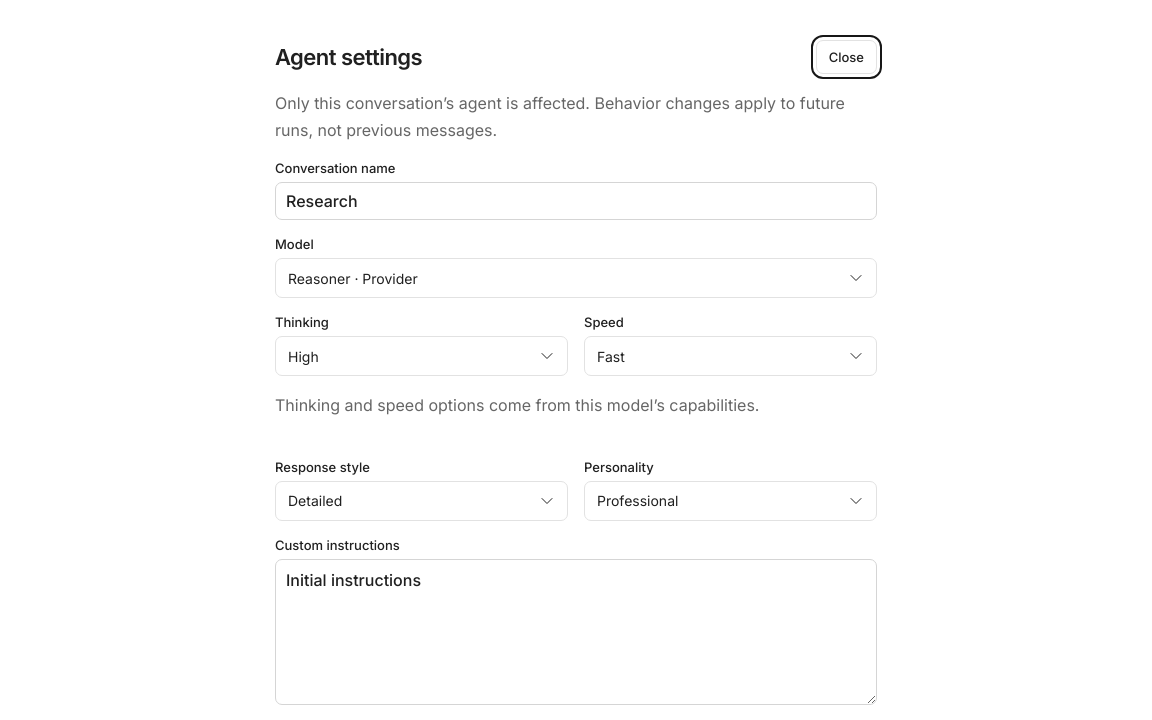
Test: disables a clean Save without disabling controls, and recognizes reverted behavior and names
Expected: the text box labelled "Custom instructions" is enabled, [275,559,877,705]
Expected: the text box labelled "Custom instructions" holds "Initial instructions", [275,559,877,705]
Click the dropdown named "Personality".
click(638, 501)  # box [584,481,877,521]
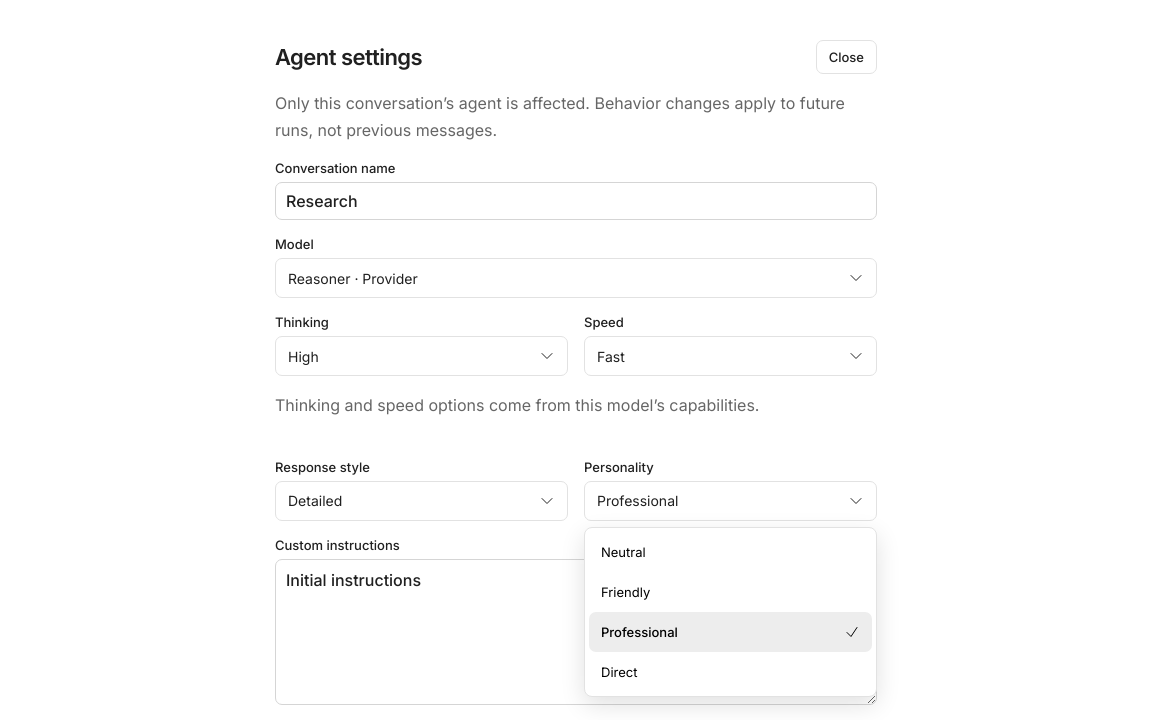
Click the option "Direct".
click(619, 672)  # box [589,652,872,692]
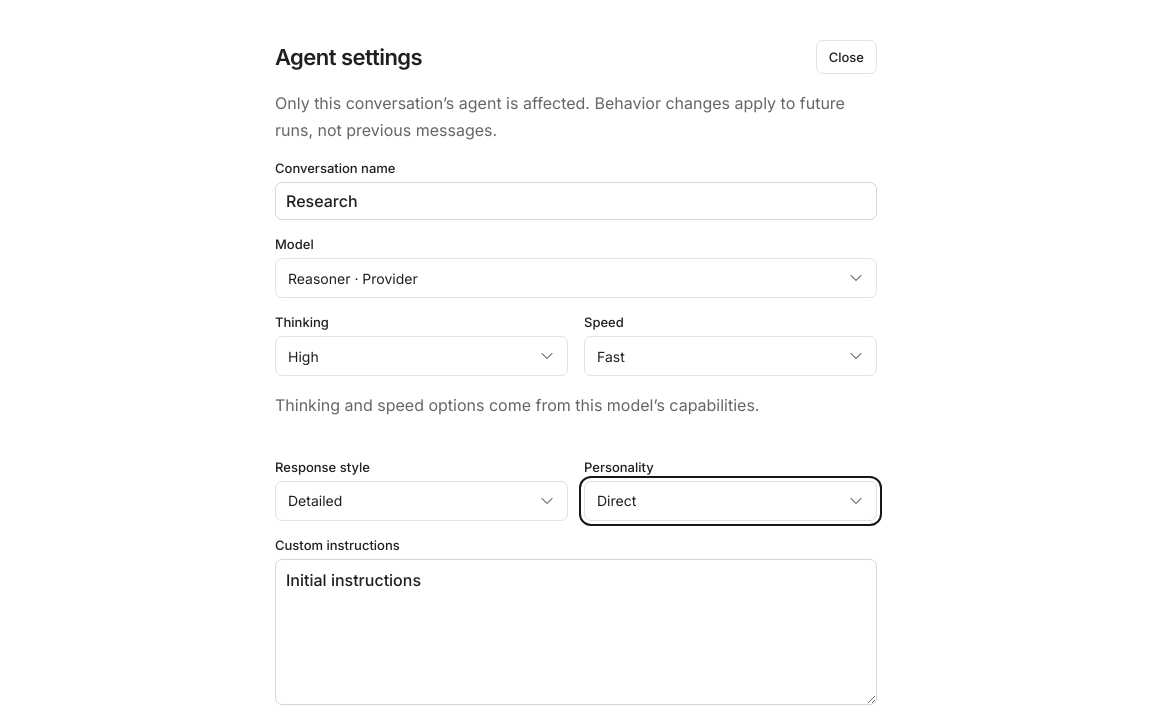
Click the dropdown named "Personality".
click(617, 501)  # box [584,481,877,521]
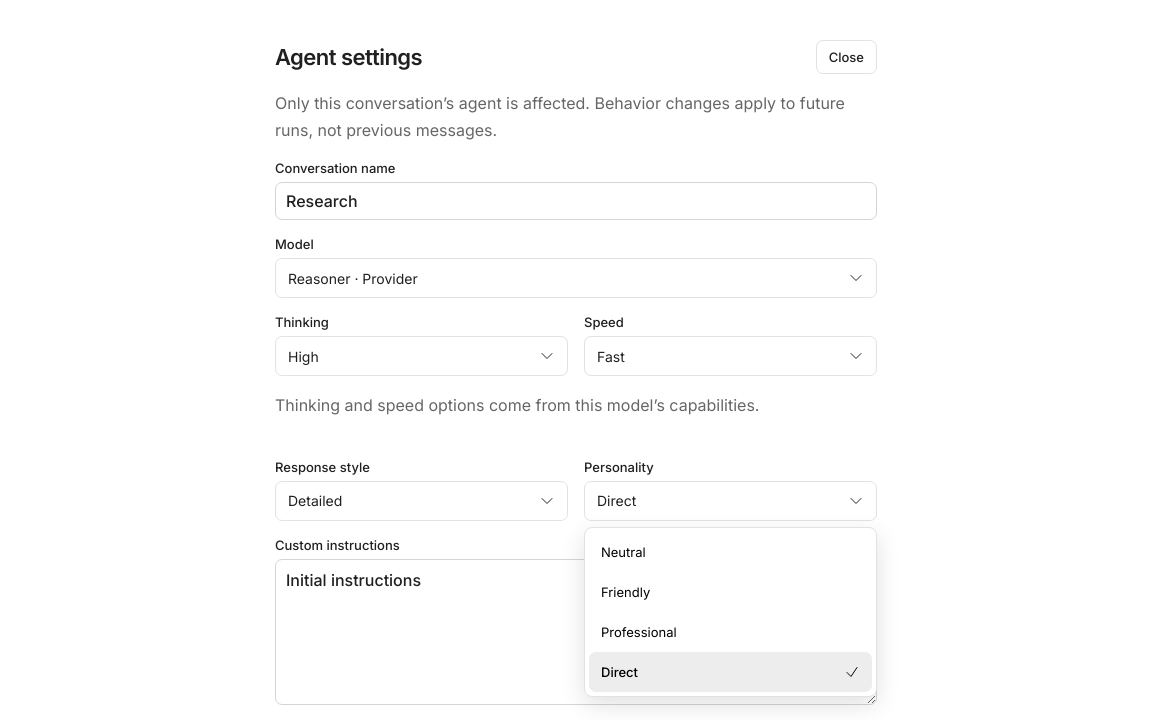
Click the option "Professional".
click(639, 632)  # box [589,612,872,652]
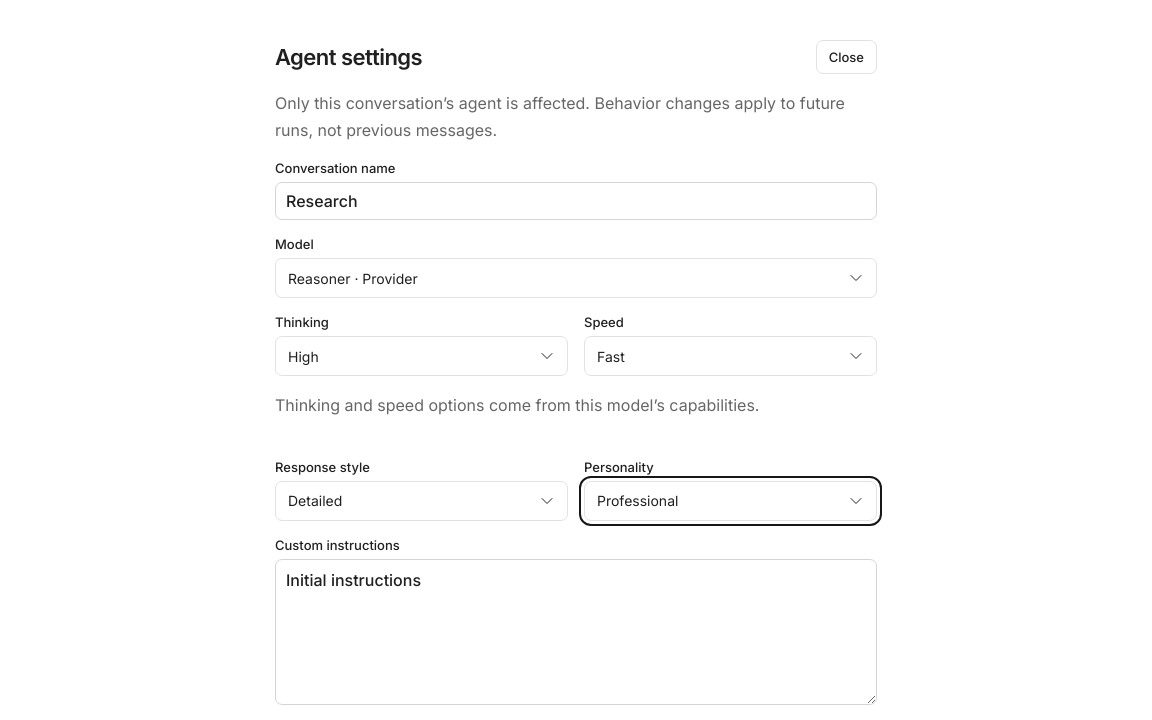
Replace the text in the field labelled "Conversation name" with "Changed" at (576, 201), box [275,182,877,220]
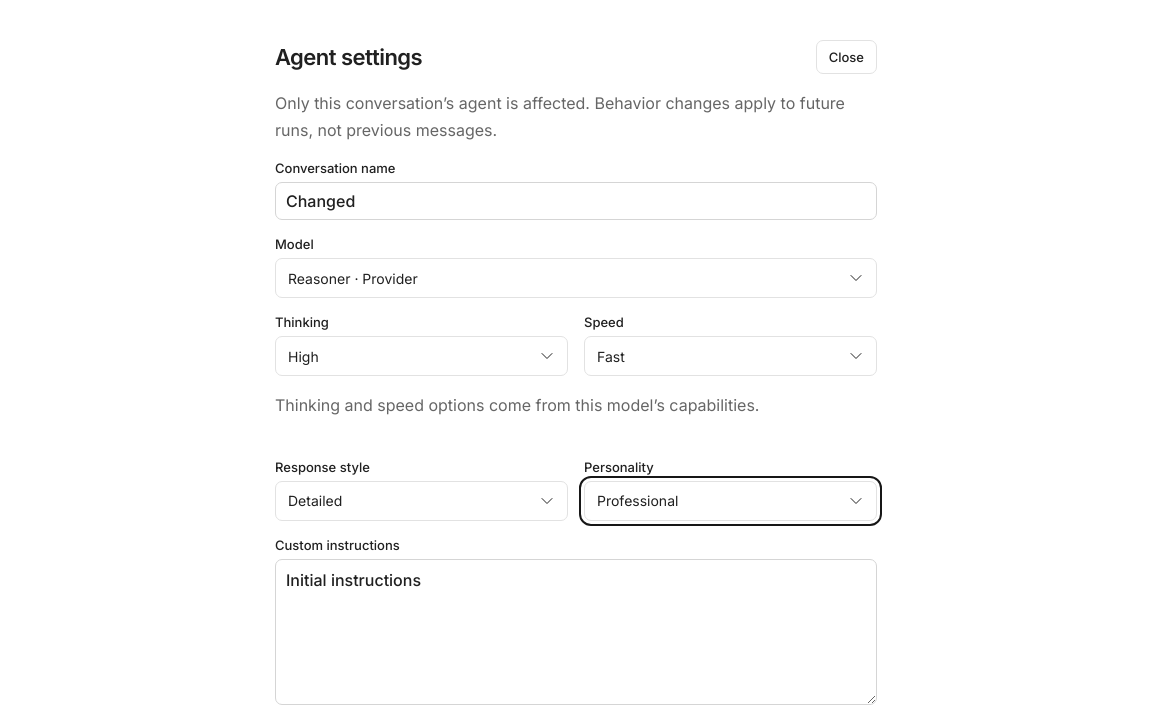
Replace the text in the field labelled "Conversation name" with " Research " at (576, 201), box [275,182,877,220]
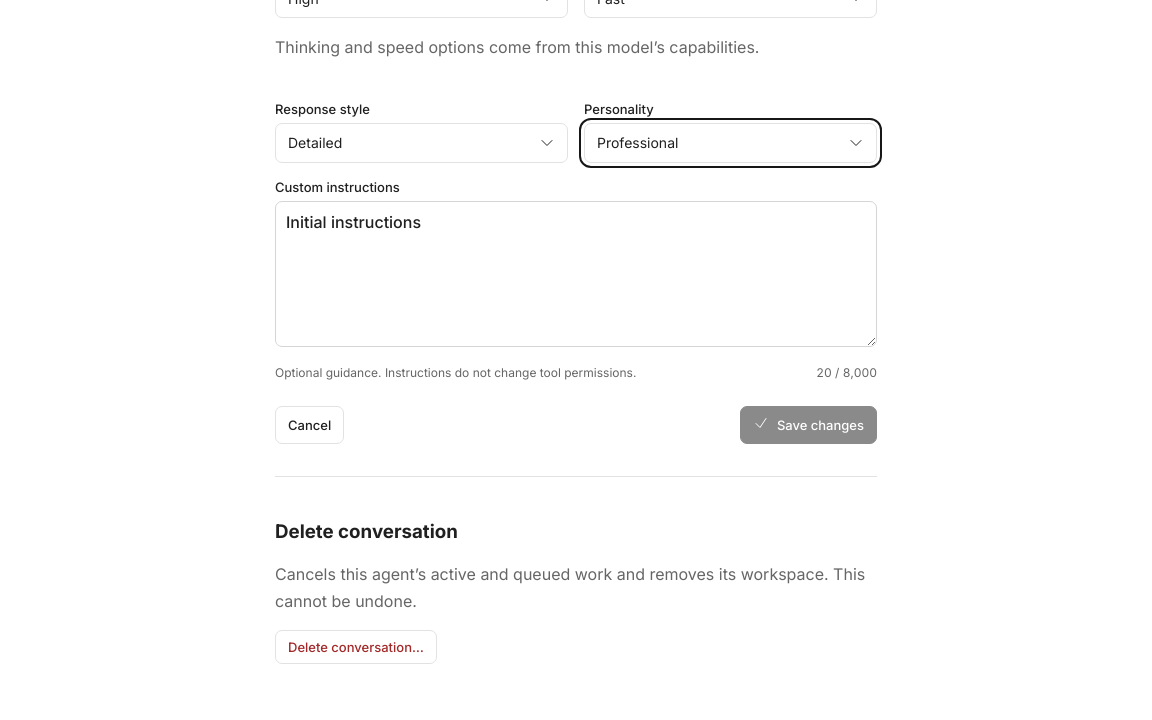
Expected: the button "Save changes" is disabled, [740,406,877,444]
